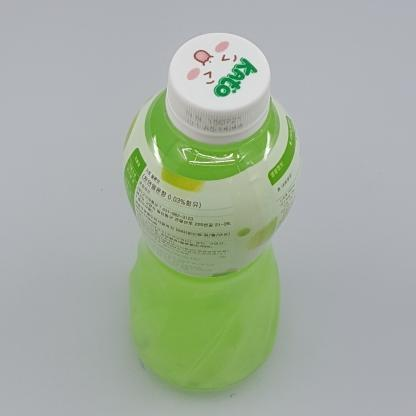-----------: (123, 32, 301, 392)
